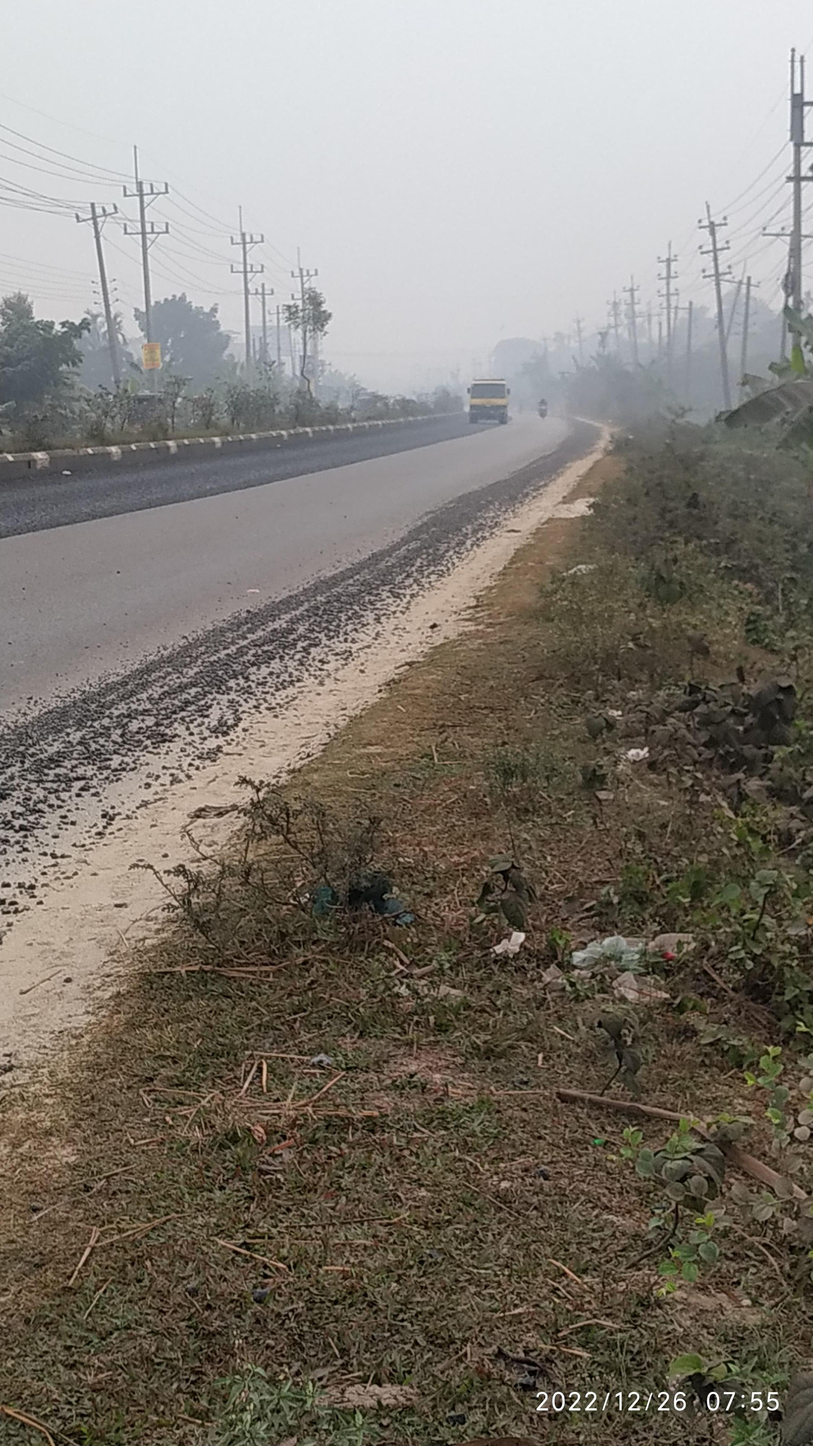Bike: (531, 389, 562, 426)
Truck: (457, 366, 518, 438)
